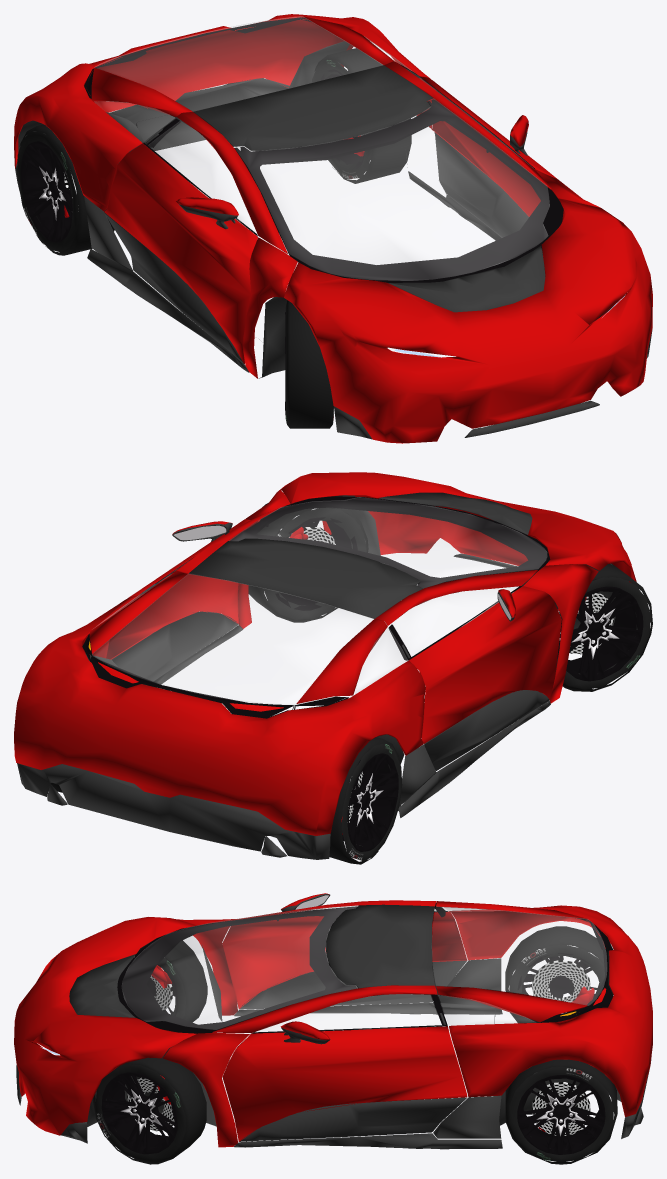
The model's file is concept_car_lod.glb.
The picture shows the model from 3 angles, top to bottom: view 1: azimuth 30°, elevation 25°; view 2: azimuth 150°, elevation 25°; view 3: azimuth 270°, elevation 25°; orthographic projection. The views are drawn at different scales.
Parts seen in each view (by area): view 1: BodyHood, BodyWindshield, BodyRearPanelsColor1, BodyRearwindow, BodyDoorRColor1, BodyWindshieldGasket, BodyRoofPanel, BodyPanelsColor2, BodyPillars, BodyHoodTopgrill, WheelFrontR, BodyDoorLColor2 (+10 smaller); view 2: BodyRearPanelsColor1, BodyRearwindow, BodyWindshield, BodyPanelsColor2, BodyDoorRColor1, BodyHood, BodyRoofPanel, BodyPillars, BodyWindshieldGasket, WheelFrontRRim, BodyDoorLColor1, BodyDoorLColor2 (+11 smaller); view 3: BodyRearPanelsColor1, BodyWindshield, BodyDoorLColor1, BodyHood, BodyRearwindow, BodyPanelsColor2, BodyPillars, BodyRoofPanel, BodyDoorRColor1, BodyWindshieldGasket, BodyDoorLColor2, WheelFrontL (+17 smaller).
Part boxes in pixels (x1,y1,x2,y2): BodyHood: (284,199,652,443); BodyWindshield: (234,98,549,280); BodyRearPanelsColor1: (14,14,435,211); BodyRearwindow: (94,16,382,111); BodyDoorRColor1: (104,143,257,363); BodyWindshieldGasket: (234,99,563,282); BodyRoofPanel: (193,65,432,150); BodyPanelsColor2: (15,78,652,439); BodyPillars: (177,61,600,378); BodyHoodTopgrill: (388,246,545,312); WheelFrontR: (285,300,333,428); BodyDoorLColor2: (434,132,529,237); BodyRearPanelsColor1: (14,571,425,835); BodyRearwindow: (92,574,373,704); BodyWindshield: (229,497,547,588); BodyPanelsColor2: (17,553,550,859); BodyDoorRColor1: (409,586,561,743); BodyHood: (277,472,636,582); BodyRoofPanel: (189,538,422,618); BodyPillars: (172,490,598,703); BodyWindshieldGasket: (229,496,550,588); WheelFrontRRim: (557,586,643,681); BodyDoorLColor1: (106,519,250,659); BodyDoorLColor2: (111,611,238,685); BodyRearPanelsColor1: (436,901,652,1116); BodyWindshield: (122,905,357,1029); BodyDoorLColor1: (222,1026,467,1141); BodyHood: (14,917,196,1135); BodyRearwindow: (432,906,606,1005); BodyPanelsColor2: (16,958,651,1149); BodyPillars: (162,900,437,1147); BodyRoofPanel: (326,904,434,988); BodyDoorRColor1: (222,911,467,1008); BodyWindshieldGasket: (117,906,357,1033); BodyDoorLColor2: (239,1097,466,1141); WheelFrontL: (92,1052,206,1164).
Bounding box in the file's own units: 2.54 × 1.15 × 4.35.
Materials: 16 (5 with a texture image).
